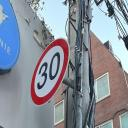speed_limit_30: (28, 34, 72, 109)
